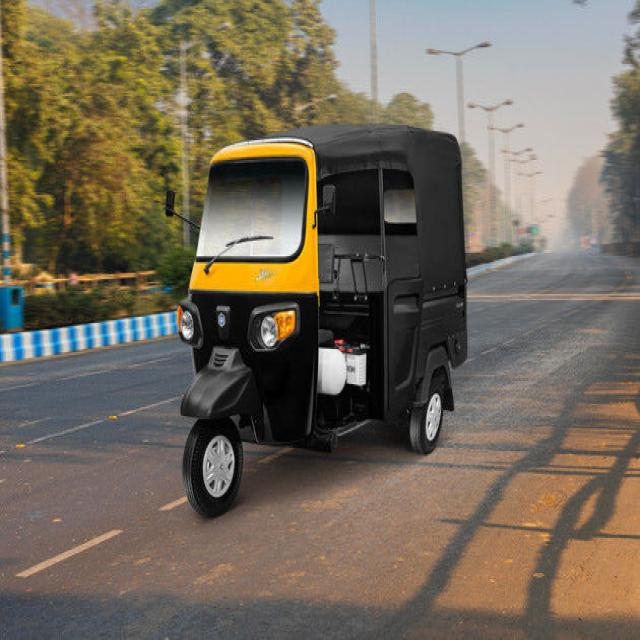autorickshaw: (177, 126, 469, 516)
